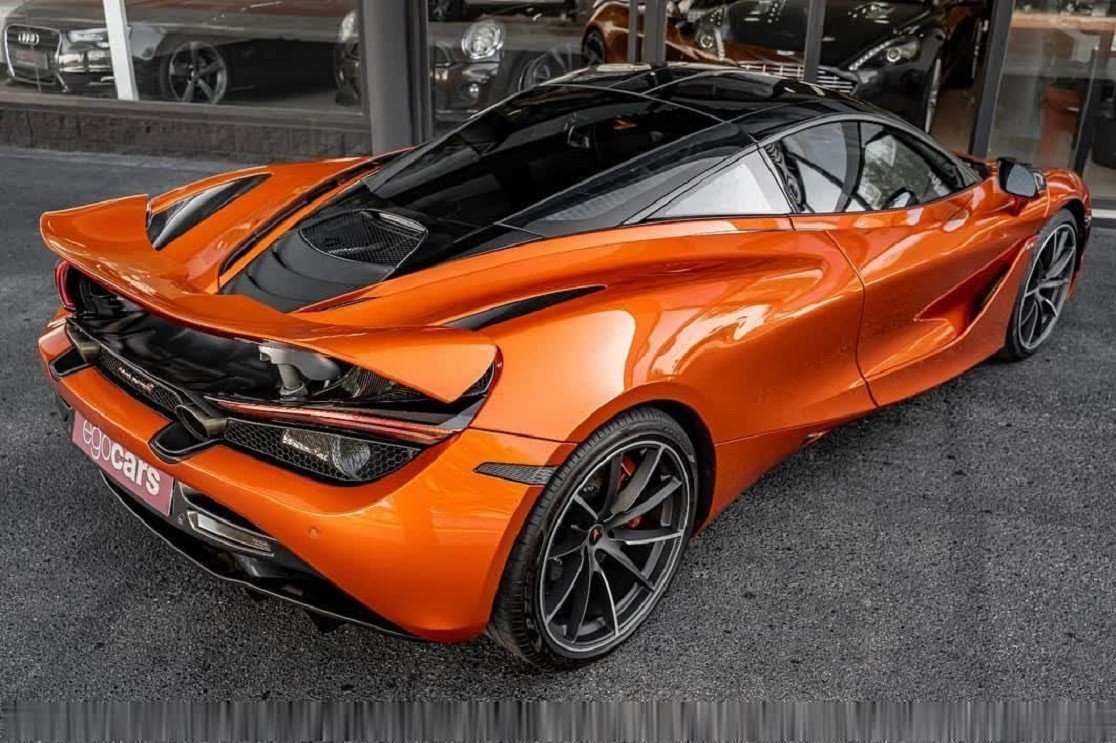other: (48, 48, 1094, 674)
